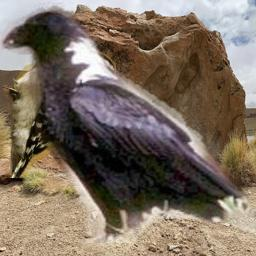Crow: (0, 1, 256, 243)
Woodpecker: (3, 41, 116, 178)
